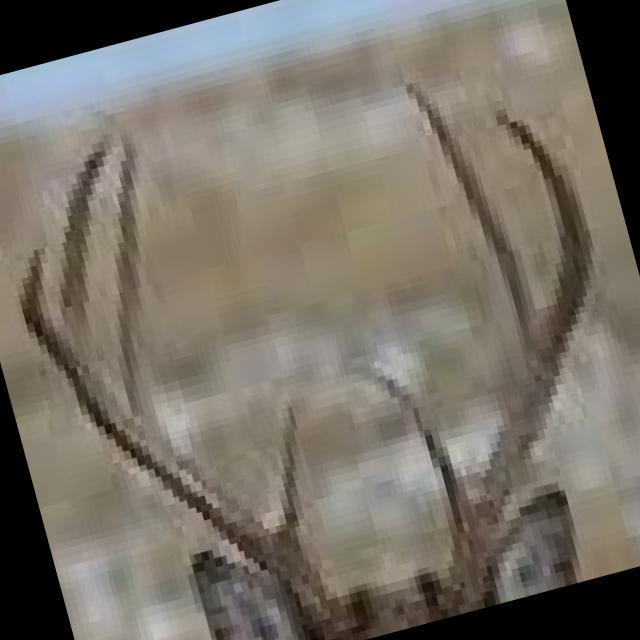L-F: (432, 104, 596, 617)
L-G1: (372, 367, 470, 532)
L-G2: (405, 78, 543, 364)
R-F: (15, 242, 350, 635)
R-G1: (277, 395, 302, 551)
R-G2: (113, 127, 163, 438)
R-G3: (61, 127, 110, 366)
